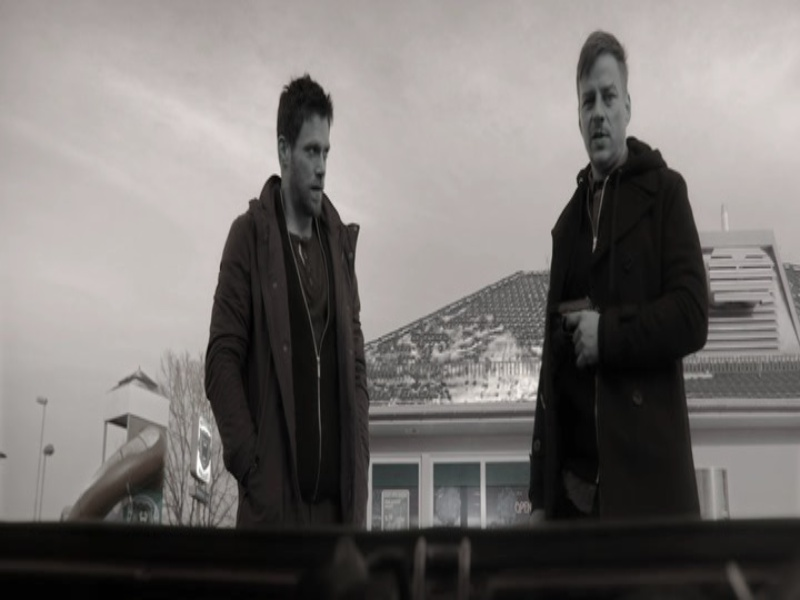TsisyArotava: (564, 47, 639, 178), (274, 89, 345, 221)
